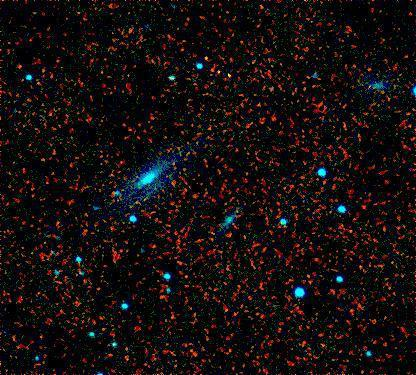star: (220, 195, 250, 225)
